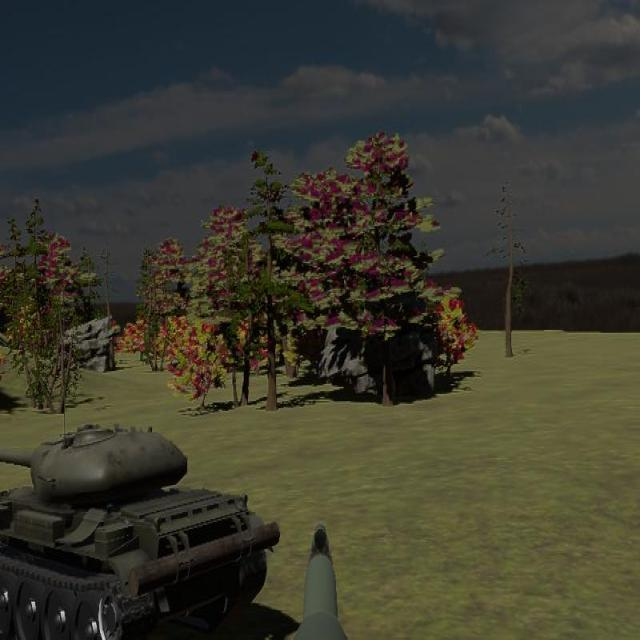Tank: (0, 421, 282, 638)
